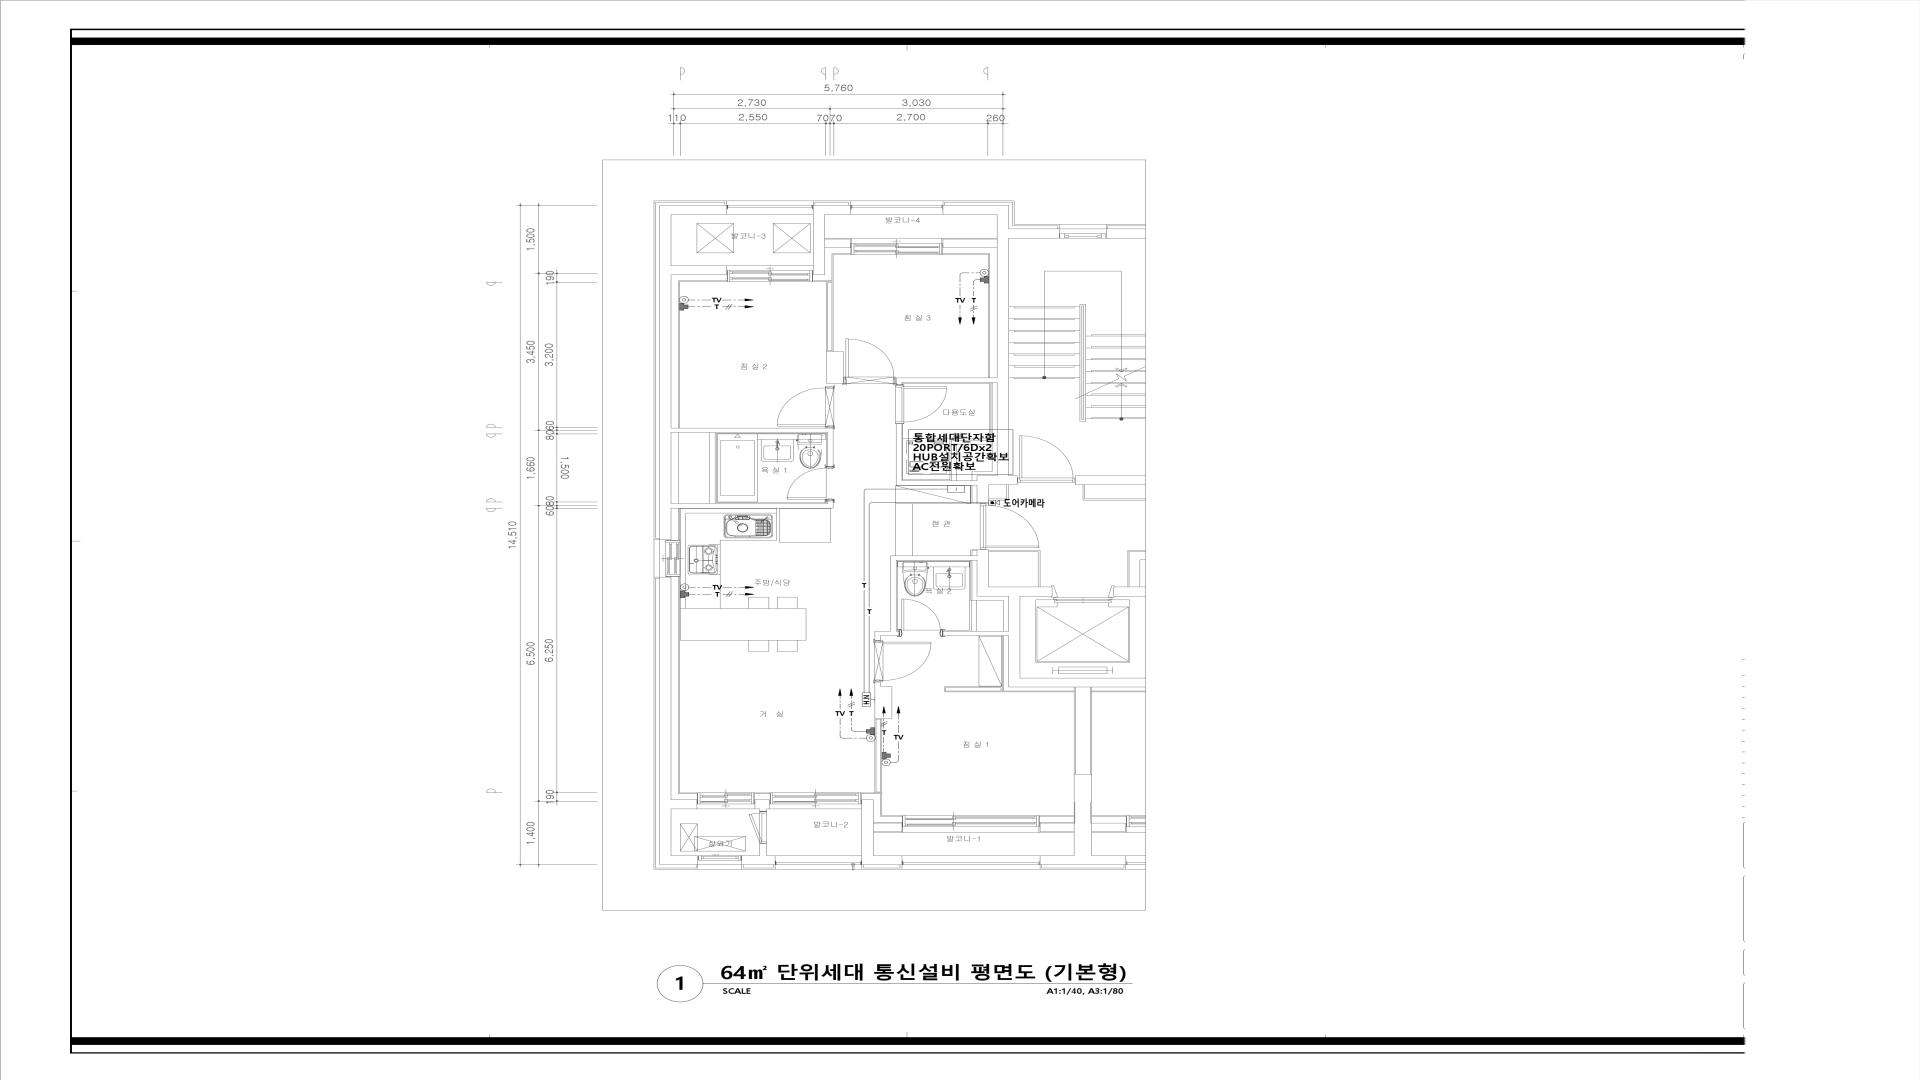door: (980, 502, 1040, 550), (1017, 434, 1075, 483), (844, 336, 897, 385), (777, 386, 835, 429), (874, 640, 932, 682), (895, 385, 948, 425), (899, 597, 943, 636), (786, 467, 833, 501), (748, 811, 766, 844)
wall: (943, 550, 1146, 687), (943, 206, 1060, 378), (659, 429, 833, 541), (895, 378, 1018, 502), (659, 204, 727, 429), (659, 578, 698, 865), (874, 555, 977, 641), (1040, 774, 1126, 865), (861, 799, 902, 865), (814, 204, 851, 274), (1073, 687, 1092, 774), (741, 844, 775, 865), (874, 682, 893, 719), (1075, 476, 1146, 485), (827, 352, 844, 384), (943, 239, 997, 248), (1106, 229, 1146, 239), (1092, 823, 1126, 832), (1113, 587, 1146, 596), (1040, 823, 1073, 832), (873, 823, 902, 832), (754, 799, 769, 811)
window: (902, 815, 1040, 827), (769, 793, 861, 804), (851, 243, 943, 255), (727, 270, 814, 282), (698, 793, 754, 804), (902, 861, 1040, 865), (666, 541, 680, 578), (851, 204, 943, 210), (727, 204, 814, 210), (775, 861, 861, 865), (1060, 233, 1106, 239), (698, 856, 742, 861), (1126, 815, 1146, 827)
